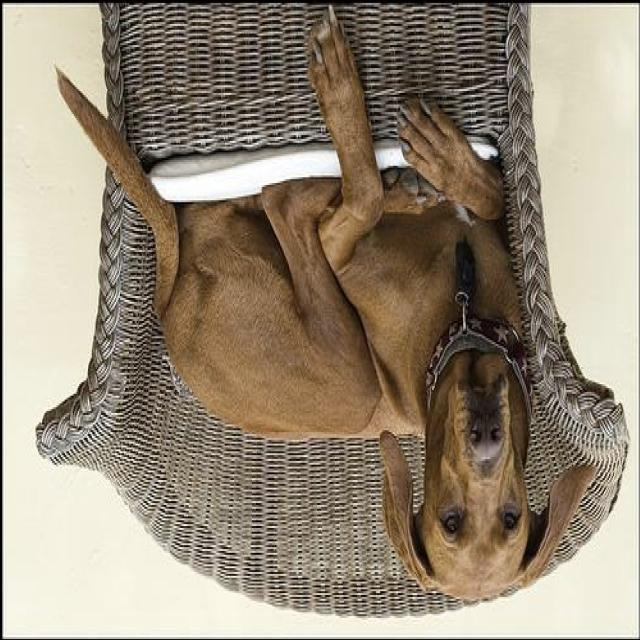vizsla: (57, 8, 596, 600)
